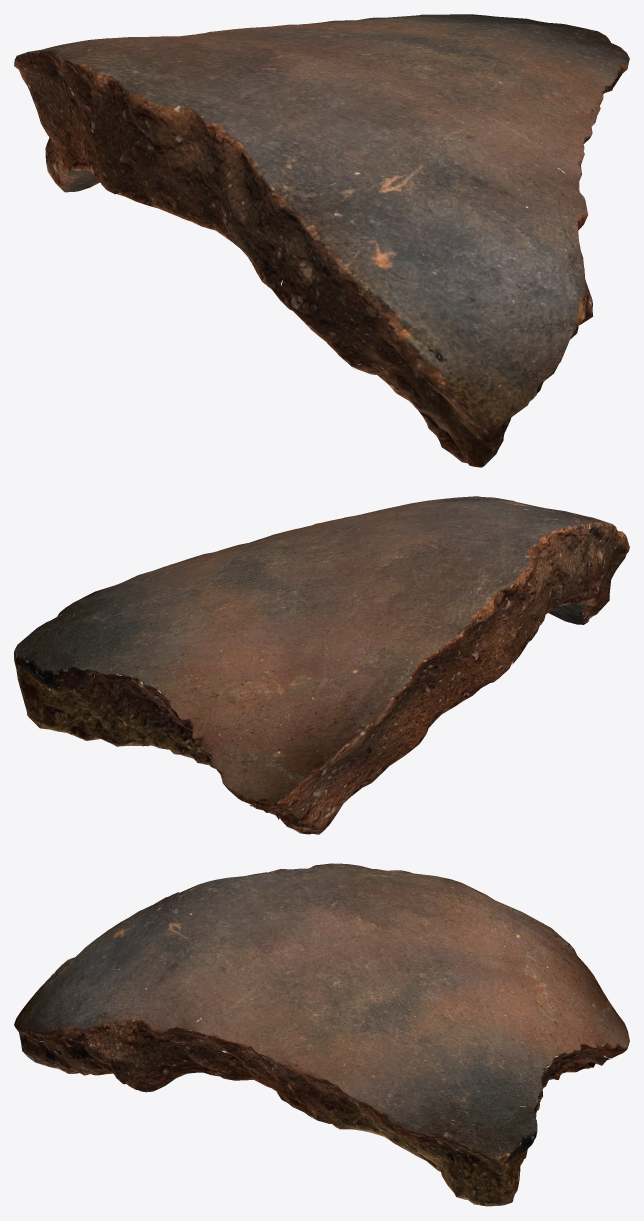
File: piece4_10000_resHi.glb
3 views of the same model, one above another, from view 1: azimuth 30°, elevation 25°; view 2: azimuth 150°, elevation 25°; view 3: azimuth 270°, elevation 25° (orthographic). The views are drawn at different scales.
Size of the model in its own units: 0.1205 by 0.0507 by 0.1648.
Materials: 1 (1 with a texture image).
